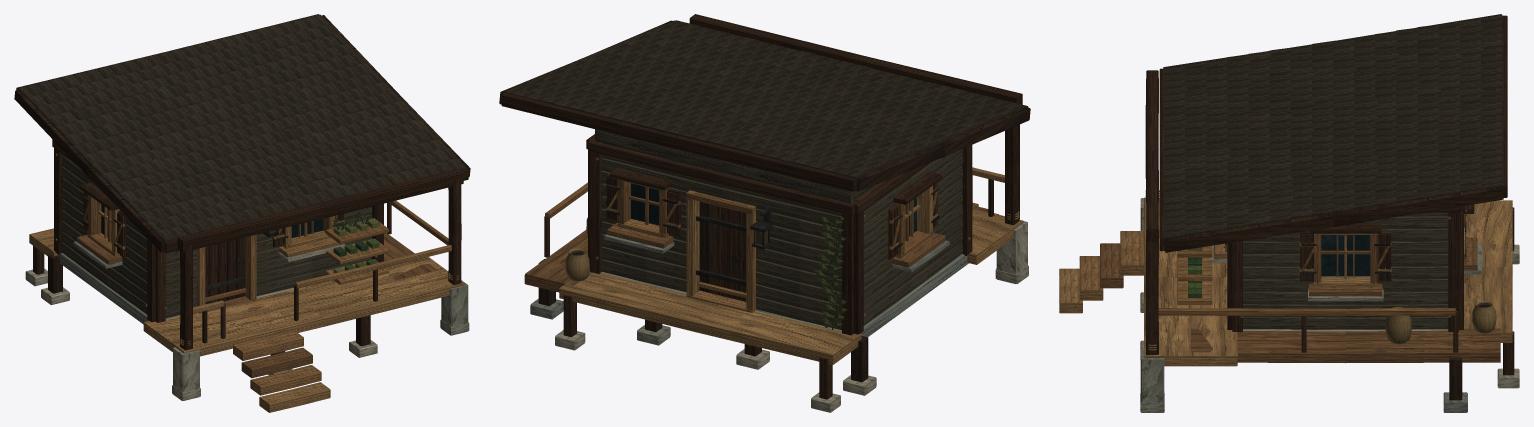
Rendered from 07_gatherer.glb.
3 views of the same model, side by side, from view 1: azimuth 30°, elevation 25°; view 2: azimuth 150°, elevation 25°; view 3: azimuth 270°, elevation 25° (orthographic). The views are drawn at different scales.
Visible parts, largest first — view 1: 07_gatherer; view 2: 07_gatherer; view 3: 07_gatherer.
Boxes of the visible parts, x1,y1,x2,y2 form: 07_gatherer: (14, 14, 470, 412); 07_gatherer: (499, 14, 1030, 412); 07_gatherer: (1059, 14, 1519, 412).
Bounding box in the file's own units: 5.07 × 3.15 × 5.65.
6 materials, 6 textured.
